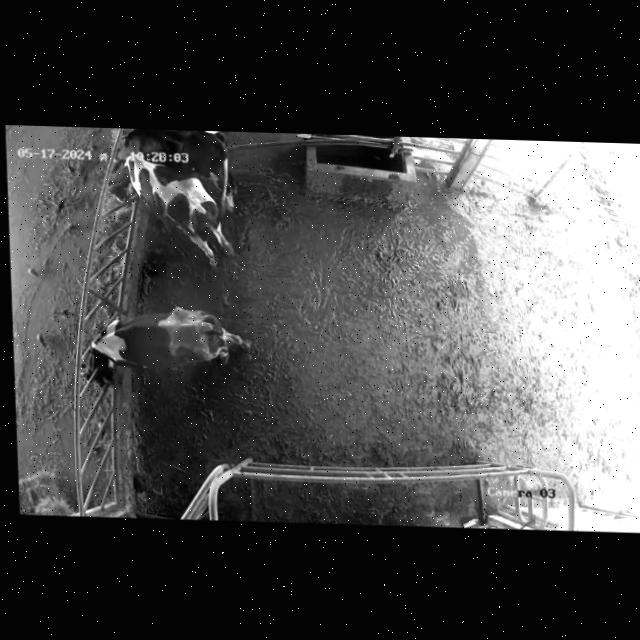eat: (50, 322, 144, 387), (64, 159, 173, 210), (79, 128, 170, 171)
